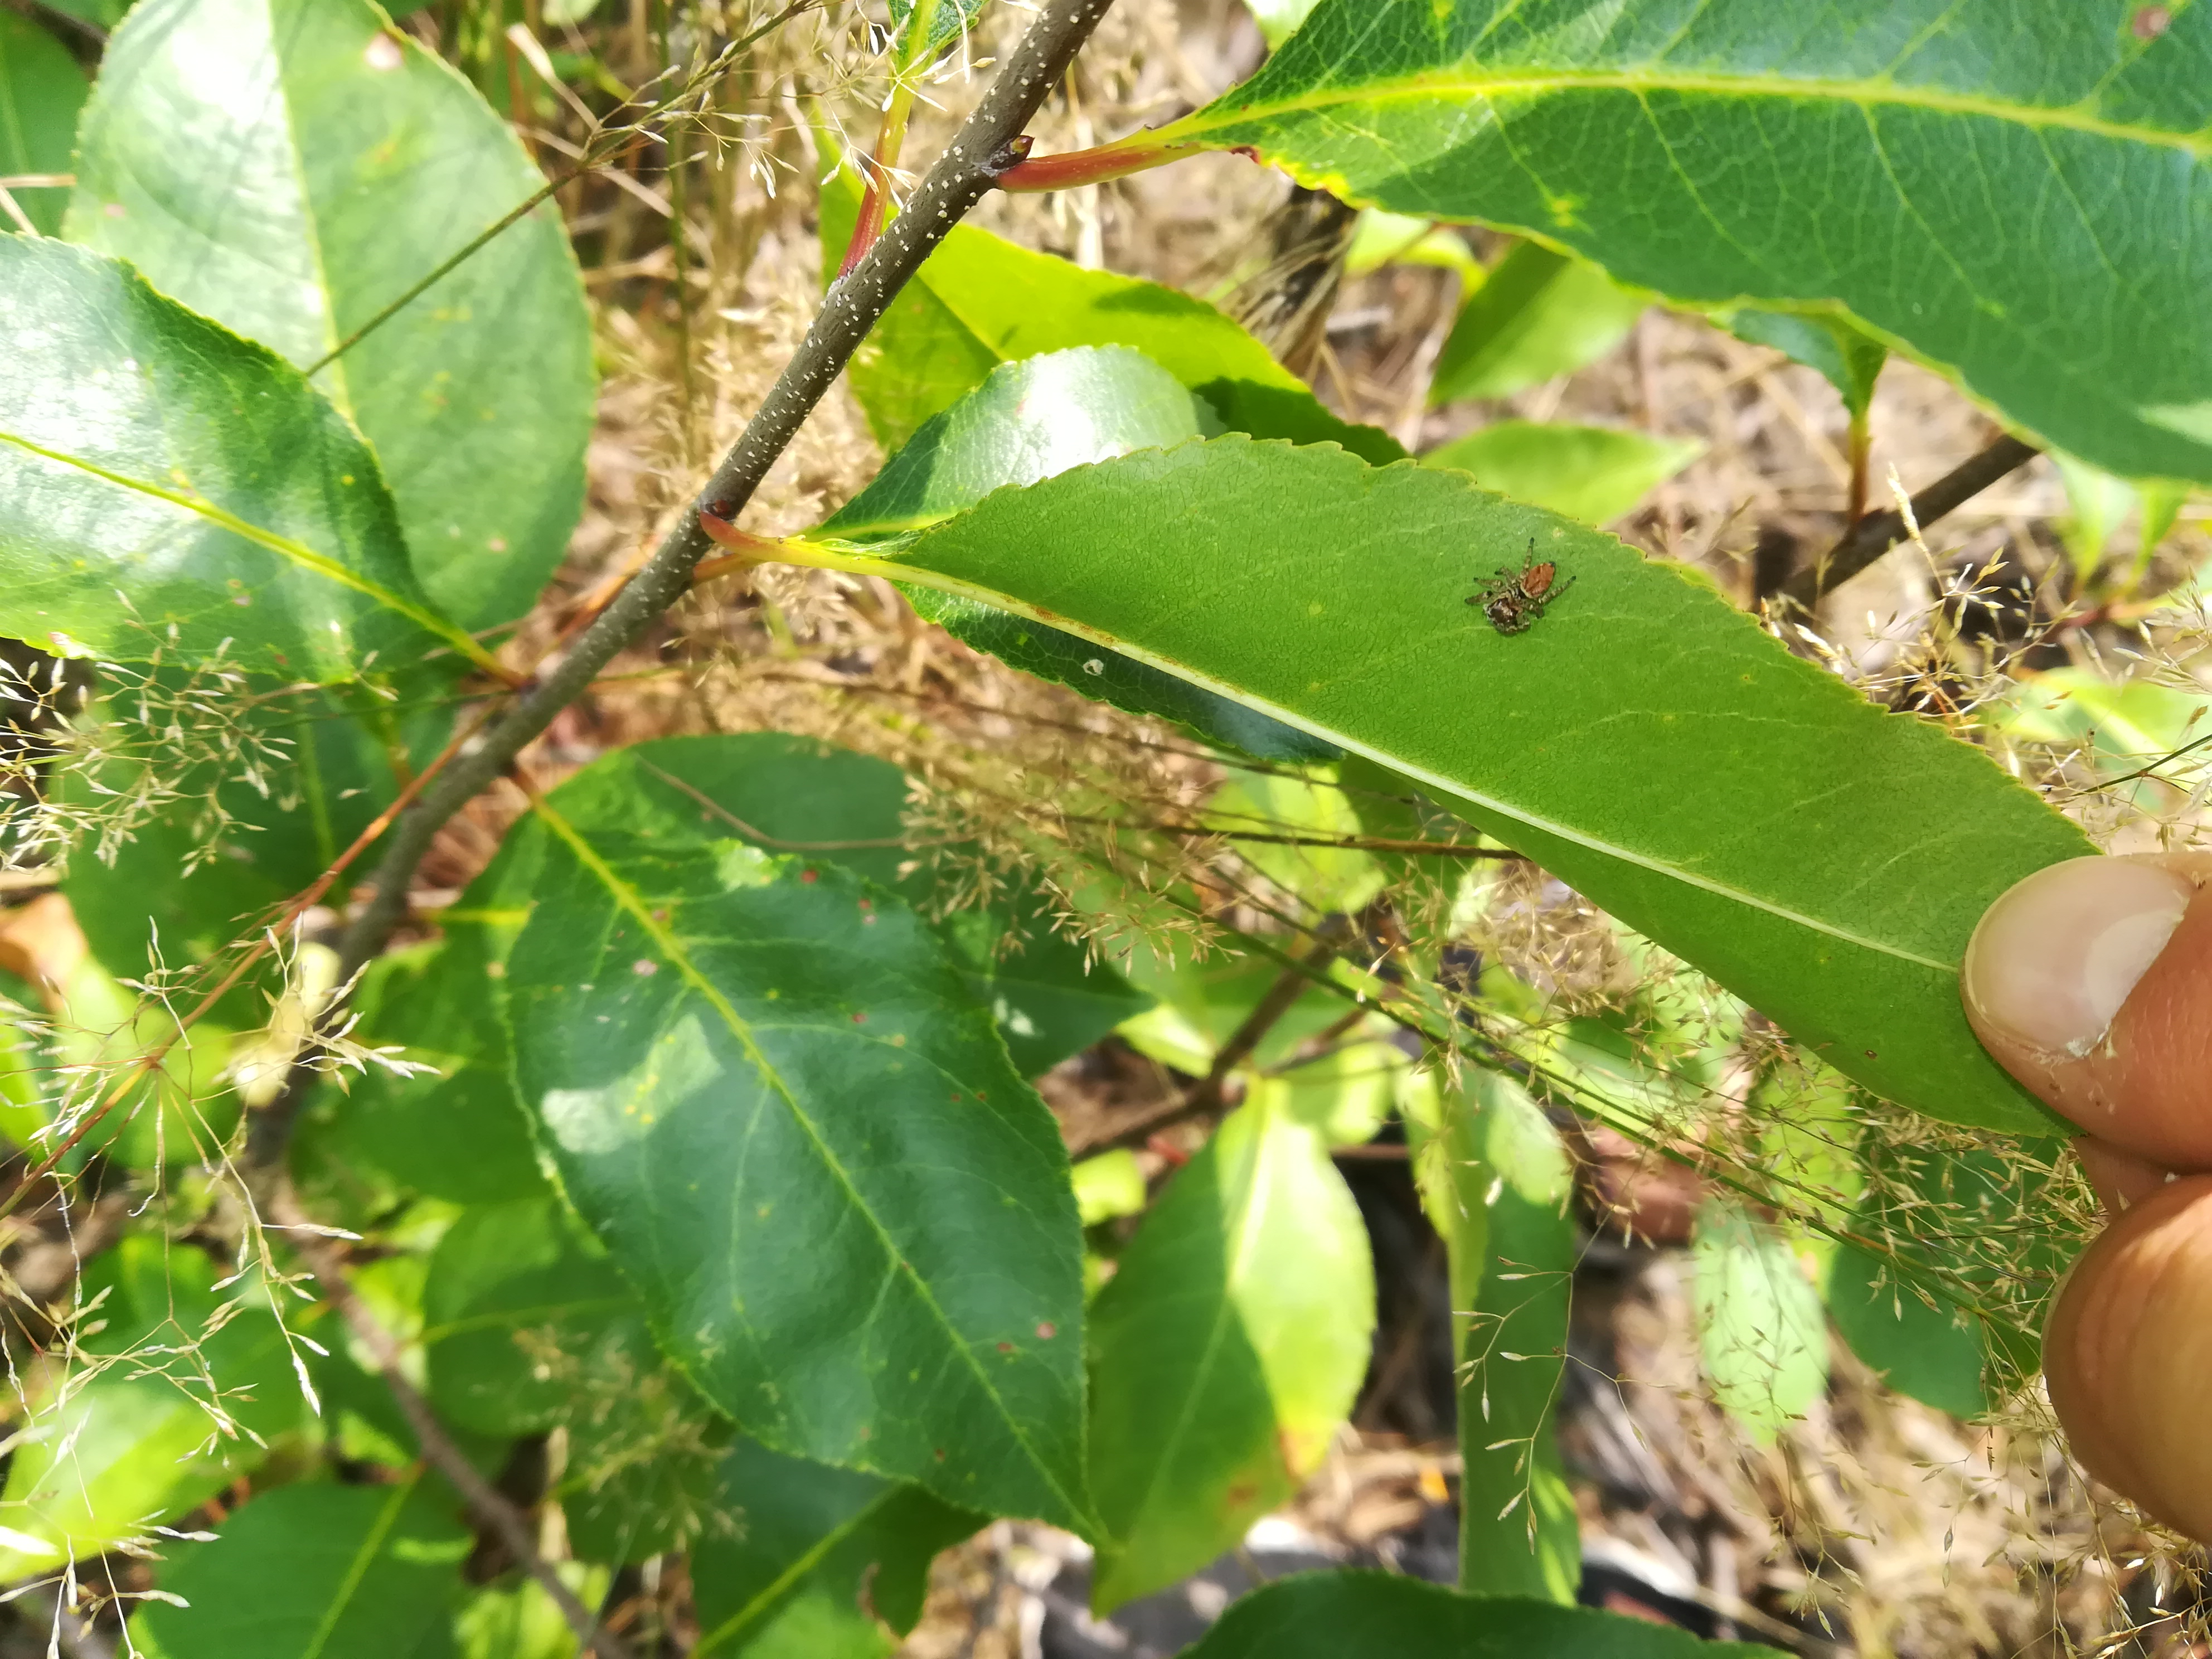spider: (1454, 519, 1602, 667)
